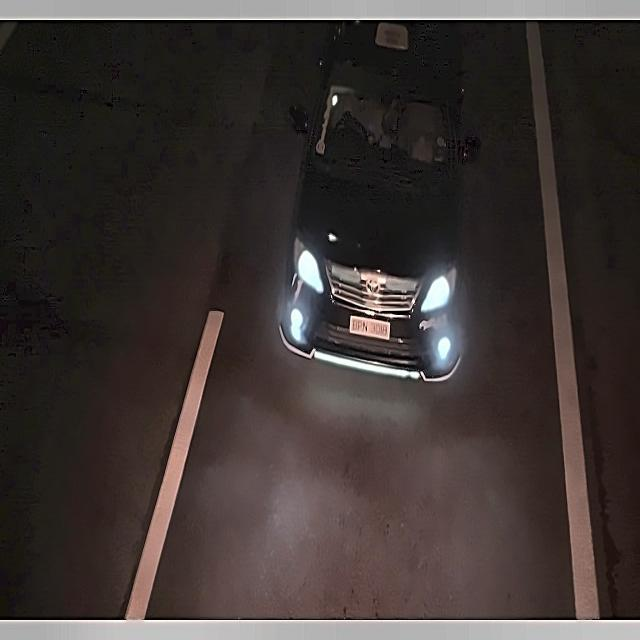car: (349, 315, 393, 344)
